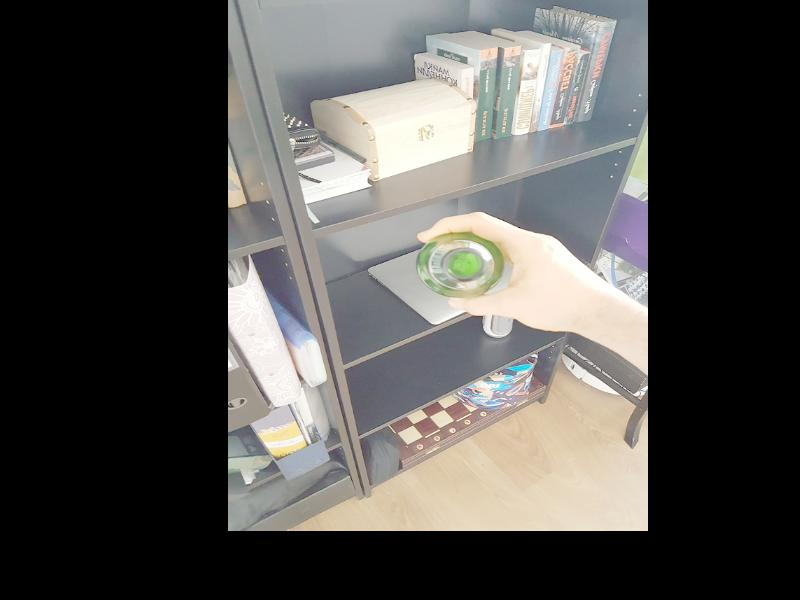Beer: (421, 232, 502, 299)
